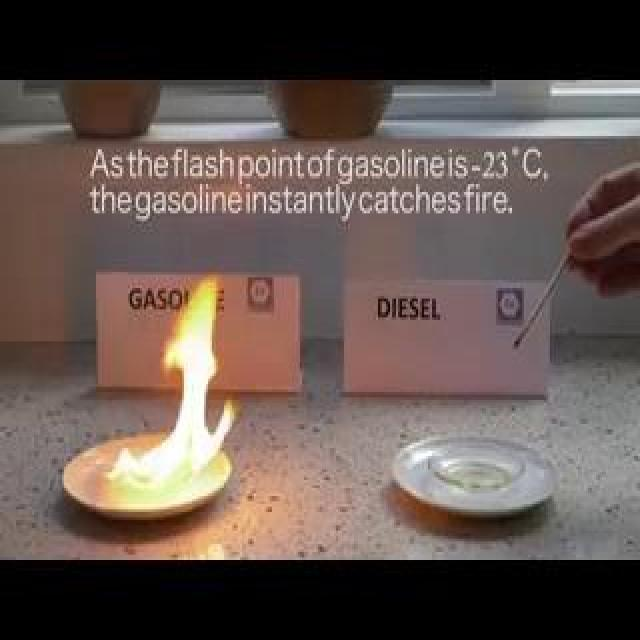Fire: (113, 304, 219, 499)
